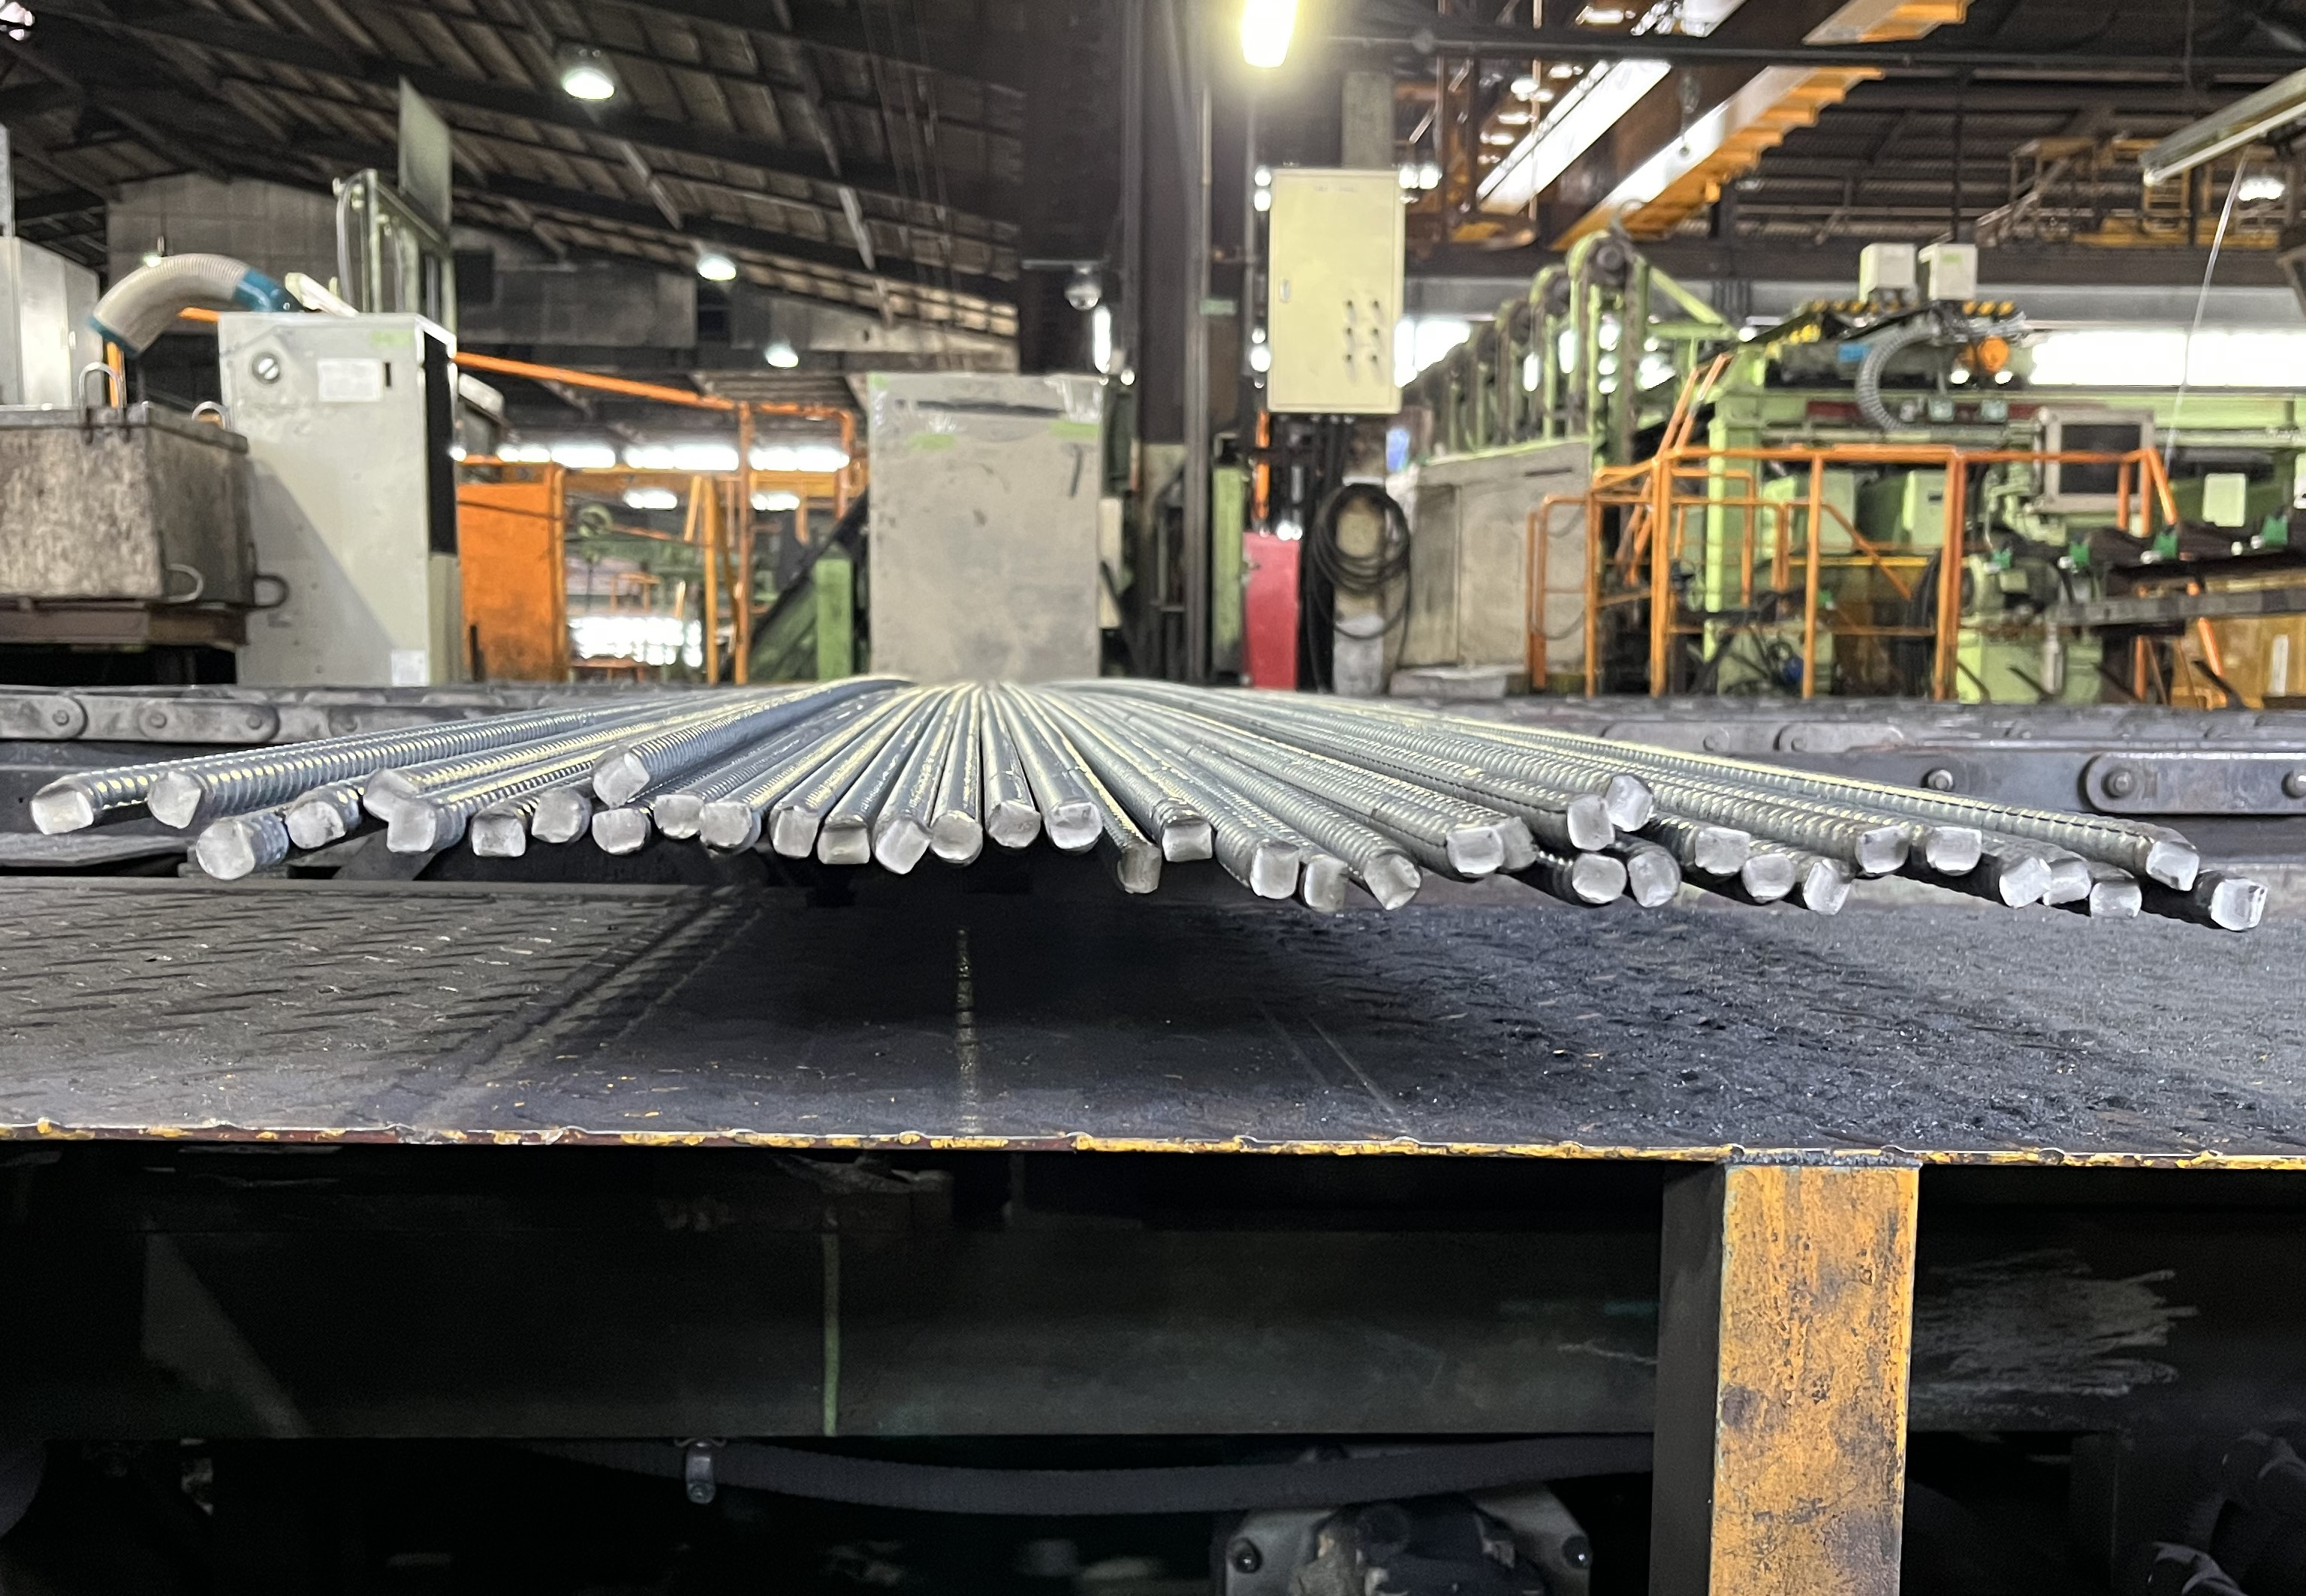rod: (193, 815, 258, 885), (1363, 846, 1423, 915), (589, 746, 652, 809), (145, 767, 207, 830), (1440, 823, 1507, 881), (26, 783, 96, 837), (359, 764, 421, 822), (874, 813, 930, 876), (1800, 855, 1856, 918), (384, 795, 442, 855), (2143, 837, 2204, 893), (286, 797, 349, 851), (1922, 825, 1985, 879), (1246, 839, 1300, 900), (1567, 851, 1628, 906), (1854, 823, 1917, 876), (529, 785, 585, 843), (929, 808, 985, 865), (1046, 799, 1104, 855), (1994, 855, 2052, 911), (1626, 850, 1680, 909), (1738, 851, 1798, 906), (2208, 874, 2262, 934), (697, 799, 757, 851), (1691, 825, 1752, 876), (466, 809, 529, 858), (1565, 794, 1617, 851), (983, 799, 1043, 850), (1302, 853, 1351, 915), (769, 802, 820, 860), (592, 808, 652, 857), (815, 816, 871, 867), (1160, 813, 1216, 864), (2085, 876, 2147, 922), (2041, 853, 2090, 909), (652, 792, 703, 843), (1118, 843, 1165, 897), (1495, 815, 1540, 871)
